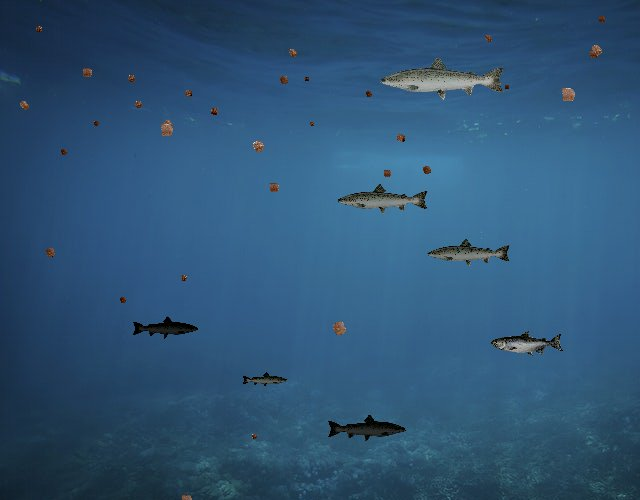Fish: (378, 55, 507, 101), (337, 183, 431, 217), (426, 237, 512, 268), (327, 413, 408, 443), (491, 331, 564, 357), (131, 316, 199, 340), (242, 371, 289, 388)
Pellet: (246, 134, 271, 159), (176, 271, 191, 286), (116, 293, 130, 307), (32, 22, 46, 36), (248, 430, 260, 442)
